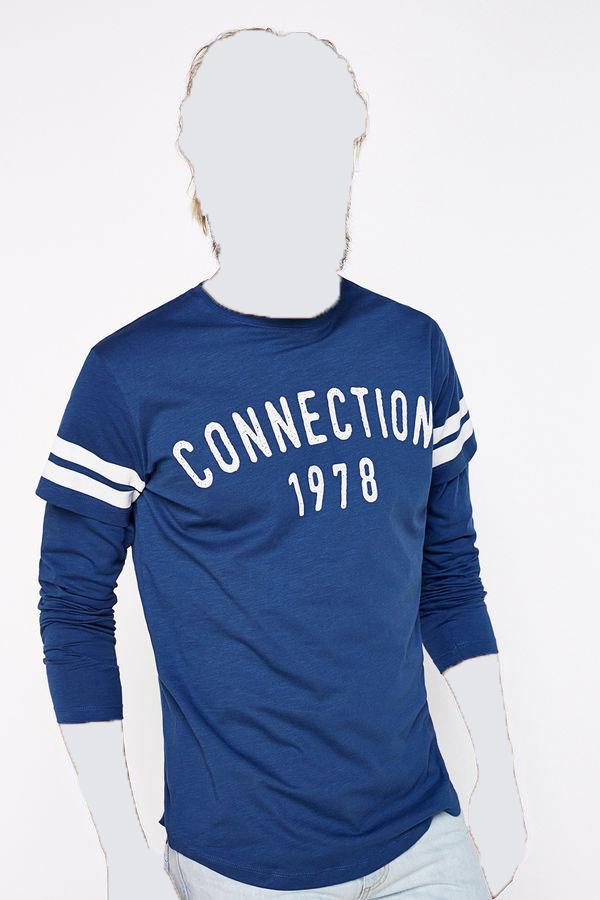teeshirt: (23, 284, 523, 888)
